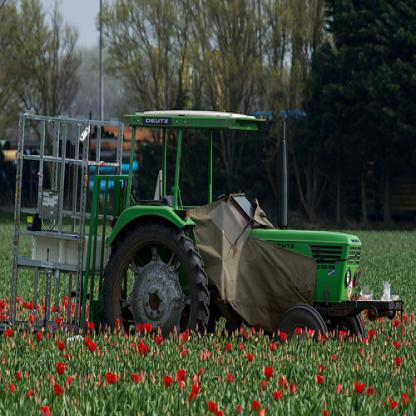TULIP: (6, 261, 414, 407)
